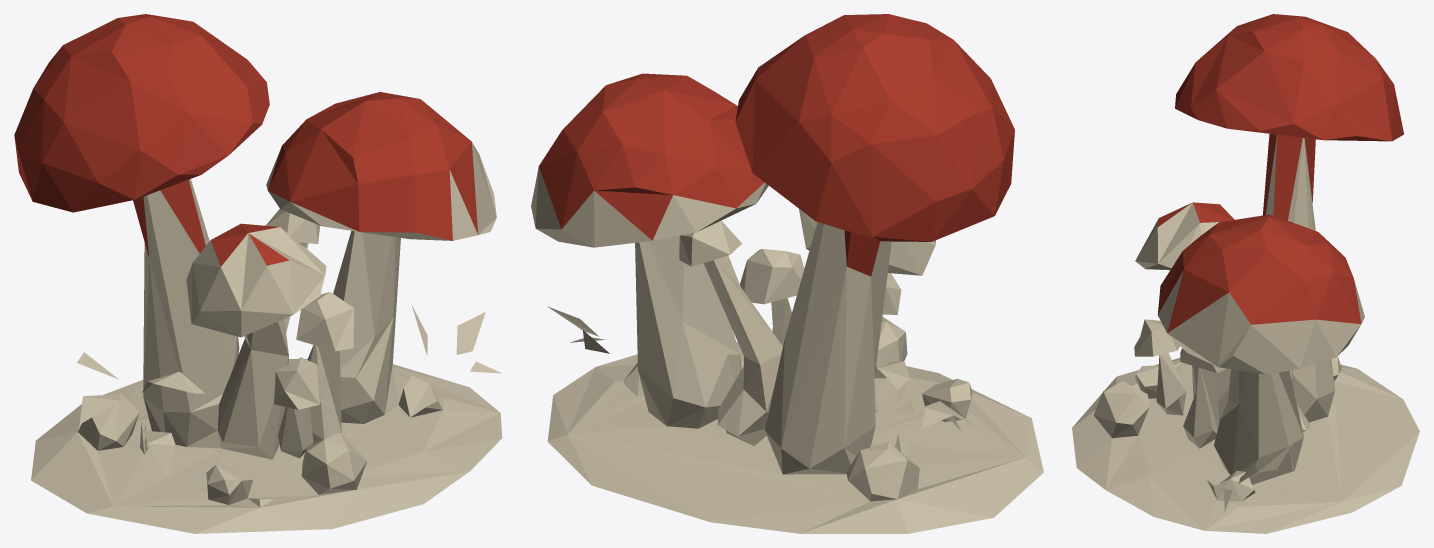
Rendered from mushroom-2.glb.
The picture shows the model from 3 angles, left to right: view 1: azimuth 30°, elevation 25°; view 2: azimuth 150°, elevation 25°; view 3: azimuth 270°, elevation 25°; orthographic projection. The views are drawn at different scales.
Visible parts, largest first — view 1: output_unwrapped; view 2: output_unwrapped; view 3: output_unwrapped.
Boxes of the visible parts, x1=… form: output_unwrapped: x1=14, y1=14, x2=502, y2=533; output_unwrapped: x1=531, y1=14, x2=1043, y2=533; output_unwrapped: x1=1072, y1=14, x2=1419, y2=533.
Size of the model in its own units: 0.7 by 0.6594 by 0.5518.
